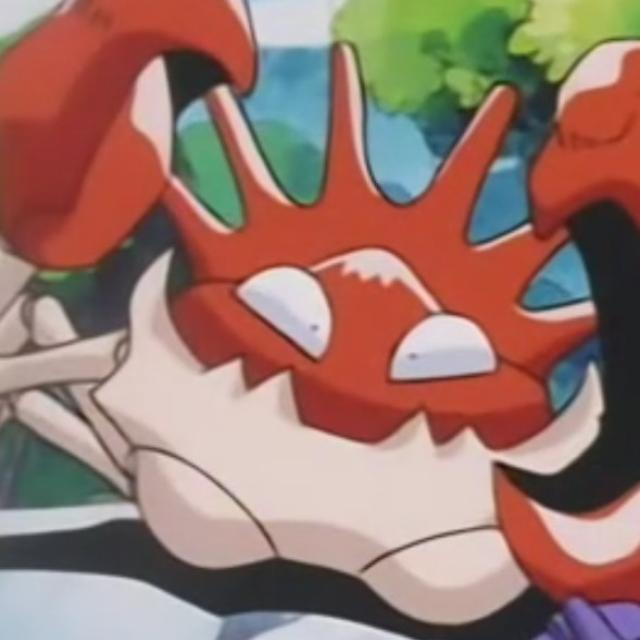Kingler: (59, 74, 616, 588)
